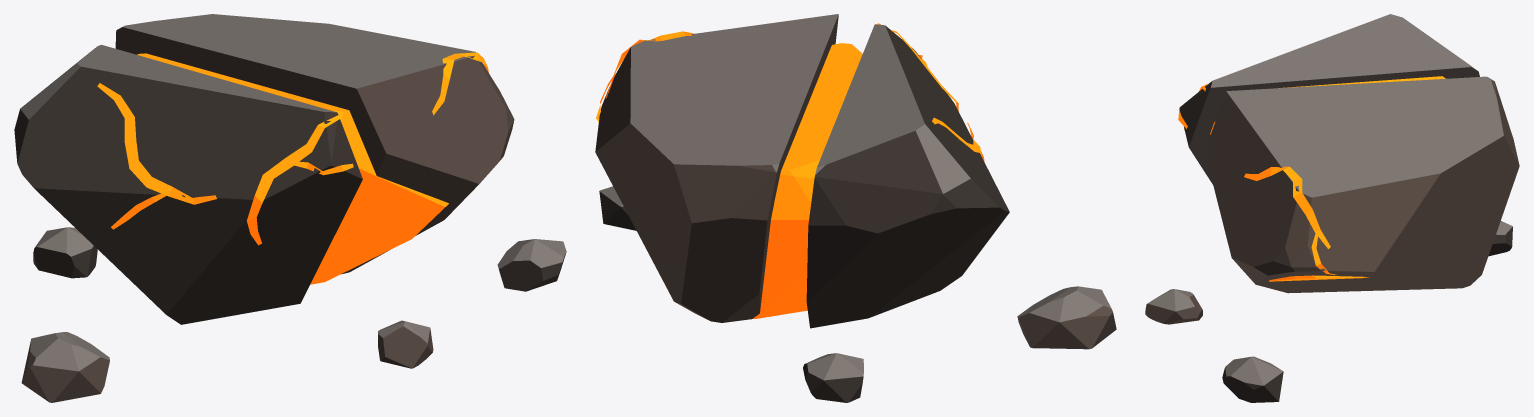
Rendered from lava_rock_b.glb.
The picture shows the model from 3 angles, left to right: view 1: azimuth 30°, elevation 25°; view 2: azimuth 150°, elevation 25°; view 3: azimuth 270°, elevation 25°; orthographic projection. The views are drawn at different scales.
Visible parts, largest first — view 1: lava_rock_b; view 2: lava_rock_b; view 3: lava_rock_b.
Part boxes in pixels (left/top/right/bottom): lava_rock_b: left=14, top=14, right=566, bottom=402; lava_rock_b: left=595, top=14, right=1116, bottom=402; lava_rock_b: left=1145, top=14, right=1519, bottom=402.
Size of the model in its own units: 2.46 by 1.09 by 1.7.
